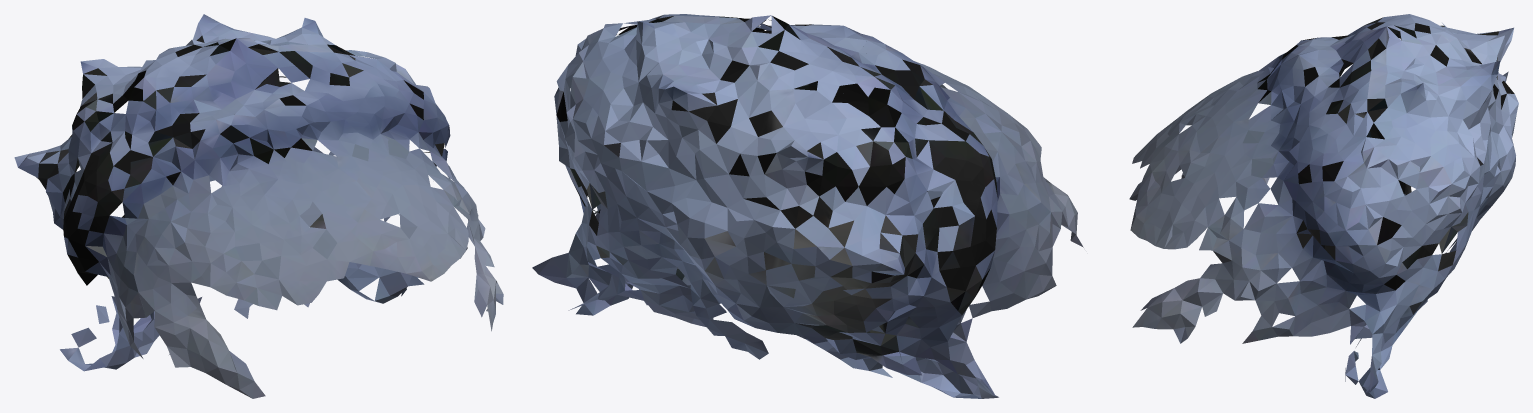
File: hairstyle_086.glb
3 renders of one model, left to right at view 1: azimuth 30°, elevation 25°; view 2: azimuth 150°, elevation 25°; view 3: azimuth 270°, elevation 25°, orthographic. The views are drawn at different scales.
Visible parts, largest first — view 1: geometry_0_086; view 2: geometry_0_086; view 3: geometry_0_086.
Part boxes in pixels (box(x1,y1,x2,y2)): geometry_0_086: box(14, 14, 503, 398); geometry_0_086: box(532, 14, 1083, 398); geometry_0_086: box(1129, 14, 1518, 398).
Bounding box in the file's own units: 1.04 × 0.7573 × 0.9413.
Materials: 1 (1 with a texture image).
